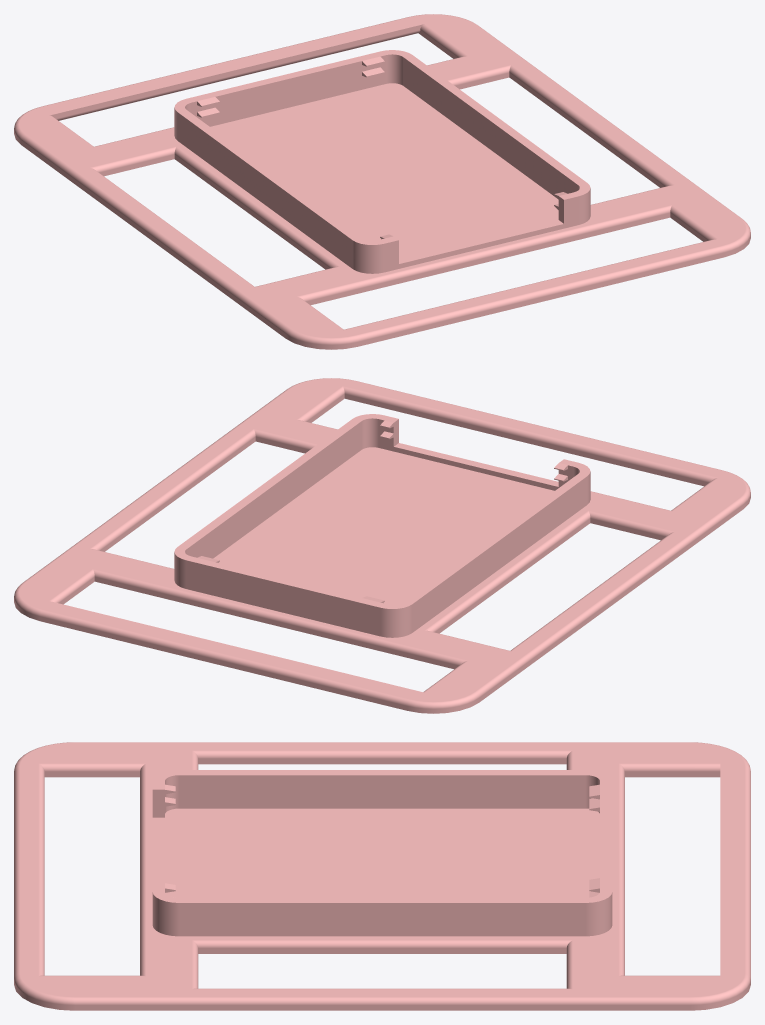
The model's file is PiHat_Clip.glb.
The picture shows the model from 3 angles, top to bottom: view 1: azimuth 30°, elevation 25°; view 2: azimuth 150°, elevation 25°; view 3: azimuth 270°, elevation 25°; orthographic projection. The views are drawn at different scales.
Parts seen in each view (by area): view 1: PiHat Clip; view 2: PiHat Clip; view 3: PiHat Clip.
Boxes of the visible parts, x1,y1,x2,y2 form: PiHat Clip: (14,14,750,349); PiHat Clip: (14,378,750,713); PiHat Clip: (14,742,750,1010).
Bounding box in the file's own units: 0.127 × 0.0102 × 0.1524.
